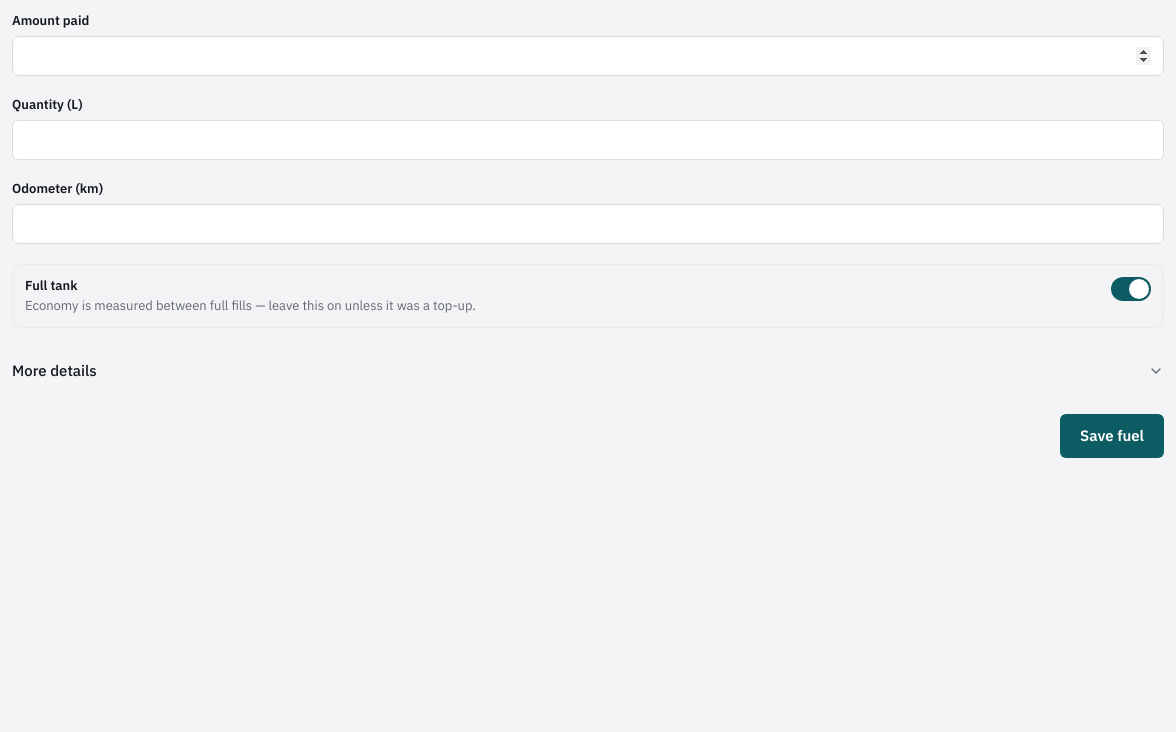
Test: FuelLogForm › says which number is missing, never "received nan"
Click the button "Save fuel" at (1112, 436), box [1060,414,1164,458]
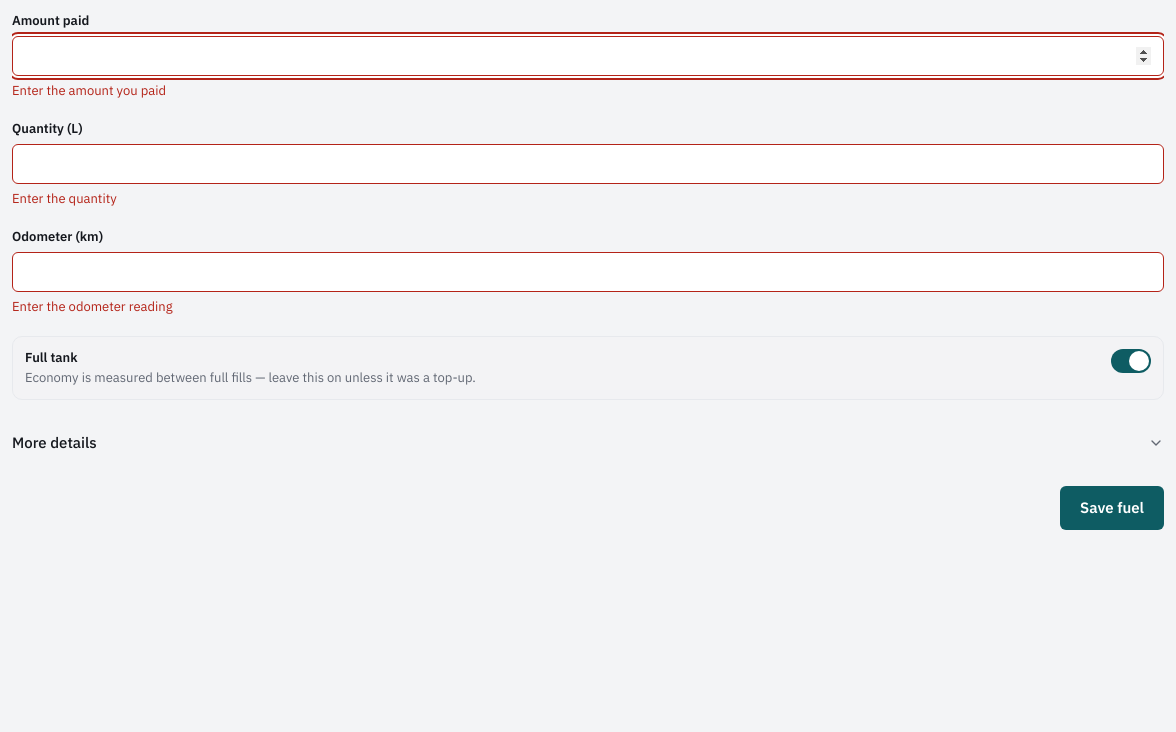
Expected: the messages read "Enter the amount you paid", "Enter the quantity", "Enter the odometer reading", in this order, [12,82,166,99]; [12,190,117,207]; [12,298,172,315]
